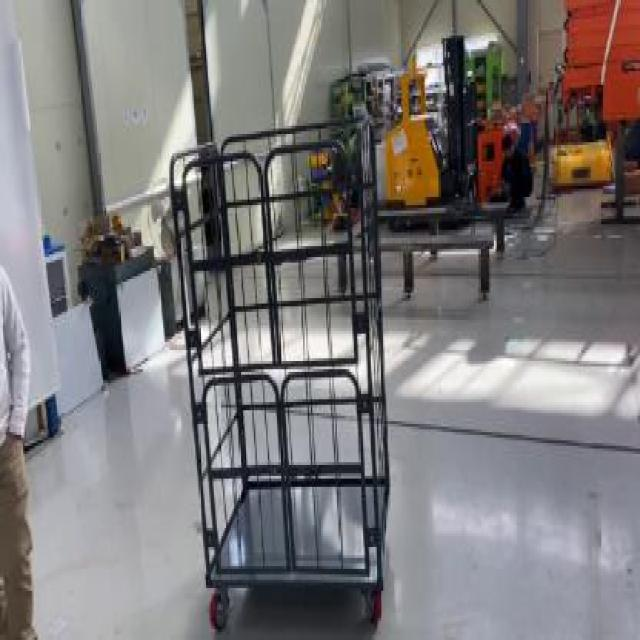cart: (178, 107, 392, 637)
person: (0, 224, 46, 635)
robot: (369, 38, 518, 227)
